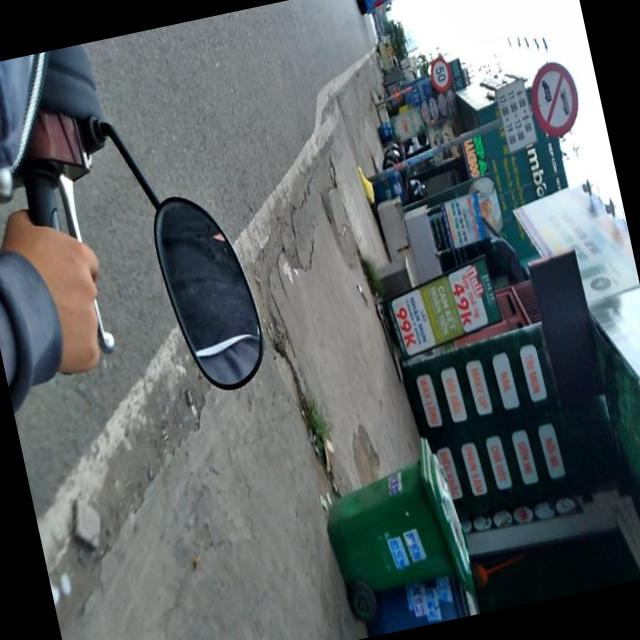P-127: (423, 54, 457, 94)
